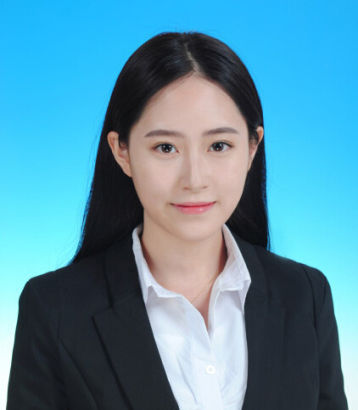unmask: (136, 92, 244, 236)
